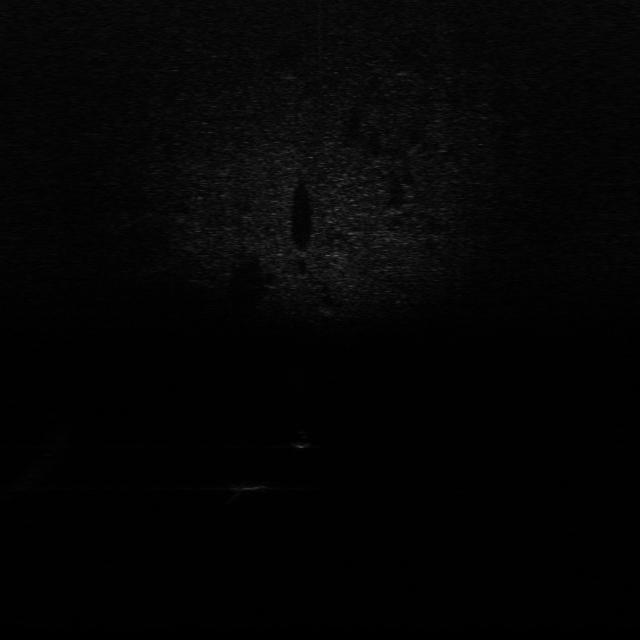ball: (287, 429, 321, 449)
square cage: (222, 475, 280, 494)
